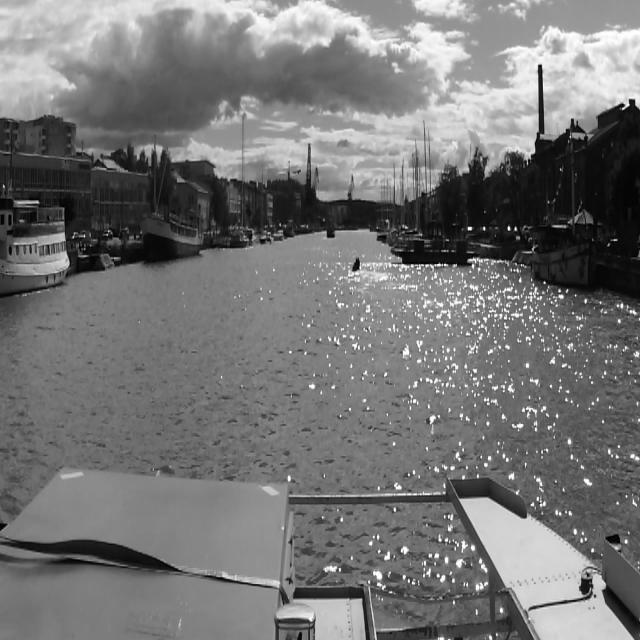ship: (530, 122, 612, 300), (0, 184, 77, 296), (398, 121, 452, 246), (388, 216, 482, 273), (136, 201, 205, 267), (233, 120, 255, 248), (373, 172, 392, 228), (324, 215, 336, 239), (350, 256, 362, 275)
